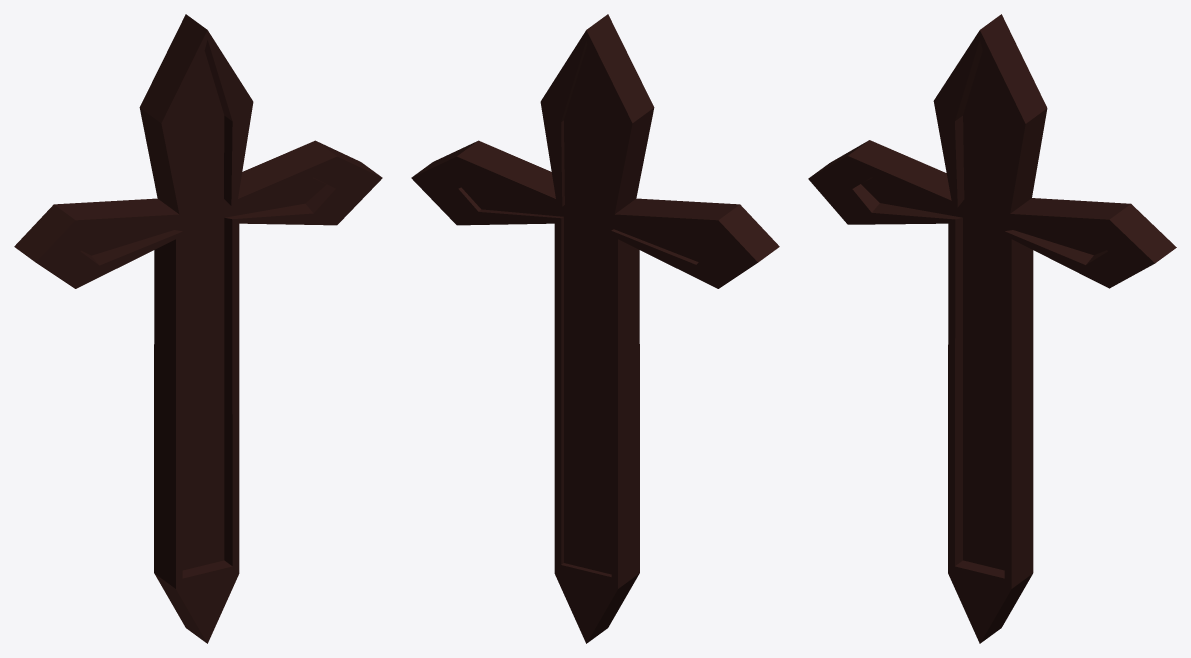
The model's file is cruz.fbx.
The picture shows the model from 3 angles, left to right: view 1: azimuth 30°, elevation 25°; view 2: azimuth 150°, elevation 25°; view 3: azimuth 330°, elevation 25°; orthographic projection.
Visible parts, largest first — view 1: cruz_enemigo; view 2: cruz_enemigo; view 3: cruz_enemigo.
Boxes of the visible parts, x1,y1,x2,y2 form: cruz_enemigo: (14,14,382,643); cruz_enemigo: (411,14,779,643); cruz_enemigo: (808,14,1176,643).
Size of the model in its own units: 79 by 134 by 8.58.
